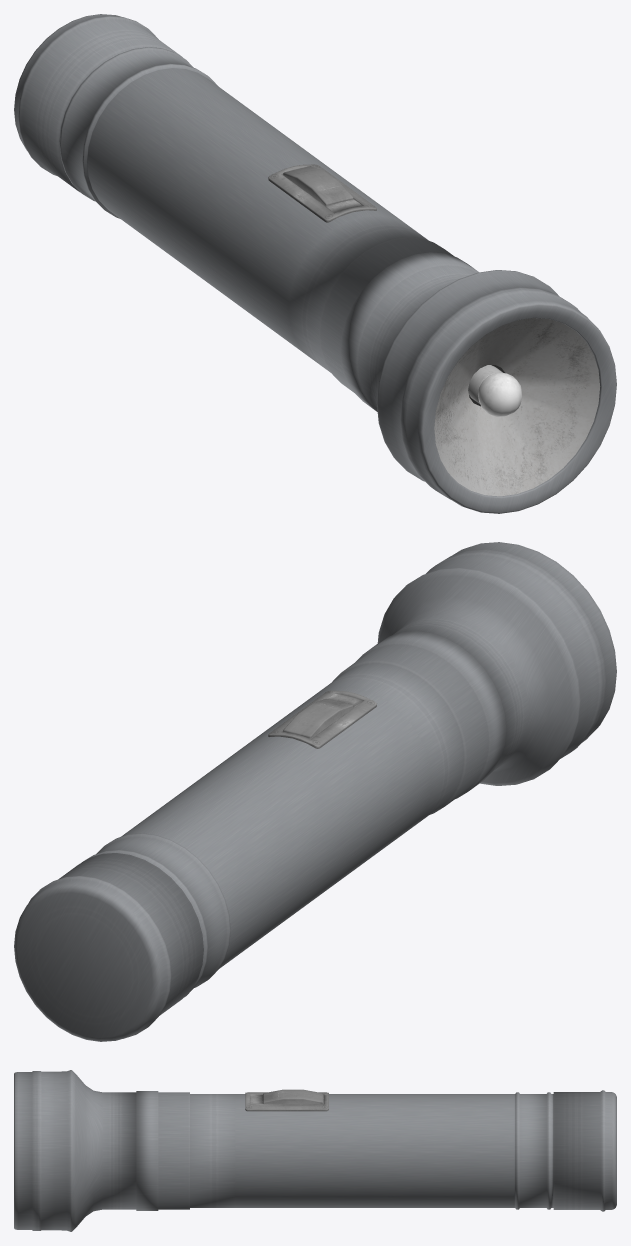
File: Senter.fbx
3 views of the same model, one above another, from view 1: azimuth 30°, elevation 25°; view 2: azimuth 150°, elevation 25°; view 3: azimuth 270°, elevation 25° (orthographic). The views are drawn at different scales.
Parts seen in each view (by area): view 1: Senter; view 2: Senter; view 3: Senter.
Boxes of the visible parts, bbox=[...] form: Senter: bbox=[14, 14, 616, 513]; Senter: bbox=[14, 542, 616, 1041]; Senter: bbox=[14, 1070, 616, 1231].
Bounding box in the file's own units: 0.1512 × 0.1512 × 0.563.
Materials: 1 (1 with a texture image).
